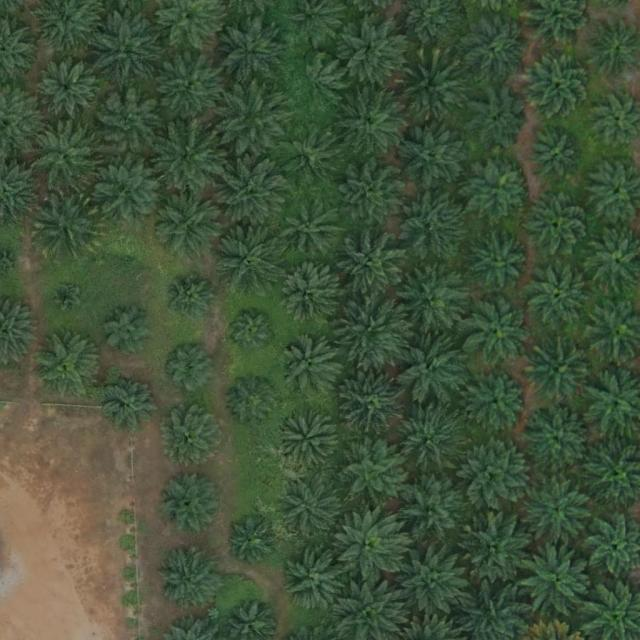Healthy: (396, 189, 467, 260), (337, 160, 408, 231), (214, 221, 285, 292), (91, 15, 162, 86), (399, 264, 470, 335), (397, 335, 468, 406), (461, 439, 532, 510), (32, 190, 102, 261), (524, 50, 595, 120), (399, 120, 469, 191), (339, 17, 410, 87), (334, 87, 404, 158), (337, 230, 407, 301), (216, 17, 286, 88), (217, 84, 287, 155), (218, 157, 288, 228), (154, 53, 224, 124), (152, 121, 222, 192), (33, 331, 103, 402), (339, 370, 410, 440), (400, 546, 470, 617), (463, 510, 533, 581), (528, 339, 598, 410), (524, 405, 594, 476), (522, 546, 592, 617), (397, 55, 467, 125), (155, 190, 225, 260), (94, 90, 164, 160), (97, 157, 167, 227), (31, 122, 101, 192), (339, 297, 409, 367), (336, 438, 406, 508), (336, 514, 406, 584), (394, 405, 464, 475), (399, 477, 469, 547), (464, 298, 534, 368), (524, 260, 594, 330), (524, 480, 594, 550), (527, 194, 590, 257), (462, 18, 525, 81), (279, 125, 342, 188), (280, 336, 343, 399), (277, 409, 340, 472), (468, 90, 530, 153), (469, 159, 531, 222), (467, 230, 529, 293), (37, 58, 99, 121), (157, 548, 219, 611), (277, 266, 339, 329), (284, 480, 346, 543), (468, 371, 530, 434), (282, 200, 344, 262), (163, 406, 225, 468), (160, 473, 222, 535), (285, 551, 347, 613), (530, 129, 585, 184), (290, 57, 345, 112), (106, 376, 161, 431), (102, 304, 157, 359), (162, 341, 217, 396), (226, 376, 280, 431), (229, 518, 276, 565)
Small: (164, 273, 219, 328), (228, 308, 275, 355), (51, 282, 82, 314), (112, 243, 143, 274)
